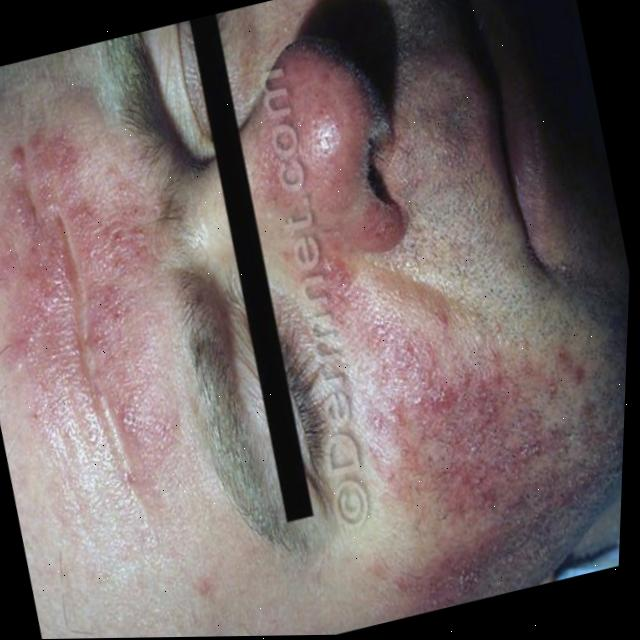Rosacea: (290, 201, 632, 625), (0, 103, 205, 510), (232, 27, 414, 271)
